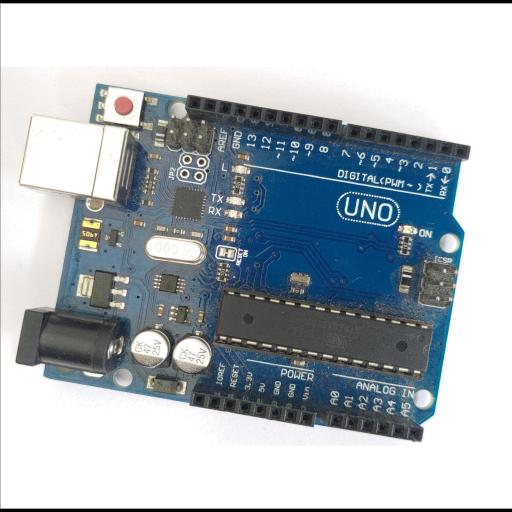Arduino Uno R3: (15, 82, 471, 443)
